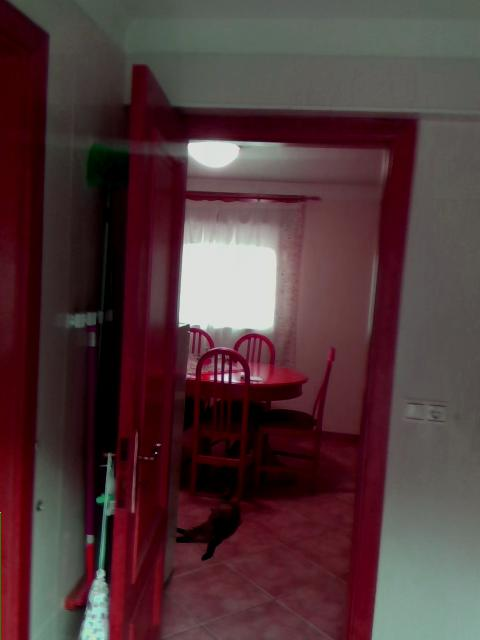open_door: (125, 105, 416, 639)
